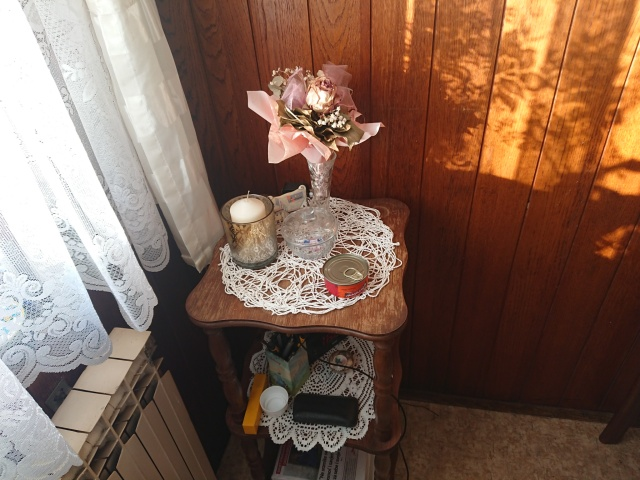Gavrilovic Pork Liver Pate 100g: (320, 252, 369, 299)
